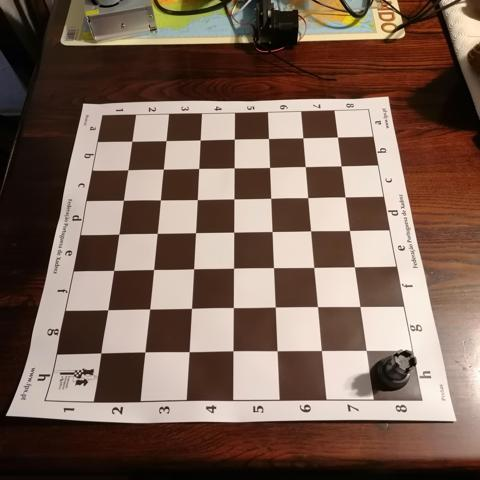xcorner: (330, 129, 346, 145), (295, 130, 311, 146), (334, 158, 350, 174), (190, 161, 206, 177), (155, 162, 171, 178), (338, 189, 354, 205), (300, 190, 316, 206), (225, 191, 241, 207), (188, 192, 204, 208), (115, 193, 131, 209), (342, 223, 358, 239), (263, 224, 279, 240), (347, 260, 363, 276), (352, 301, 368, 317), (139, 302, 155, 318), (98, 302, 114, 318), (91, 345, 107, 361), (261, 131, 276, 147), (226, 132, 242, 147), (192, 133, 208, 148), (158, 134, 174, 149), (125, 134, 140, 150), (261, 160, 277, 175), (226, 160, 241, 176), (120, 163, 136, 178), (262, 191, 278, 206), (225, 225, 240, 241), (186, 226, 202, 241), (148, 226, 163, 242), (110, 227, 126, 242), (265, 261, 280, 277), (184, 262, 199, 278), (144, 262, 159, 278), (104, 263, 120, 278), (309, 301, 324, 317), (266, 301, 281, 317), (223, 302, 239, 317), (181, 302, 197, 317), (312, 346, 328, 361), (267, 346, 283, 361), (222, 346, 238, 361), (178, 346, 194, 361), (135, 345, 150, 361), (298, 159, 313, 174), (152, 193, 167, 208), (303, 224, 318, 239), (306, 261, 321, 276), (224, 262, 239, 277), (358, 346, 373, 361)
